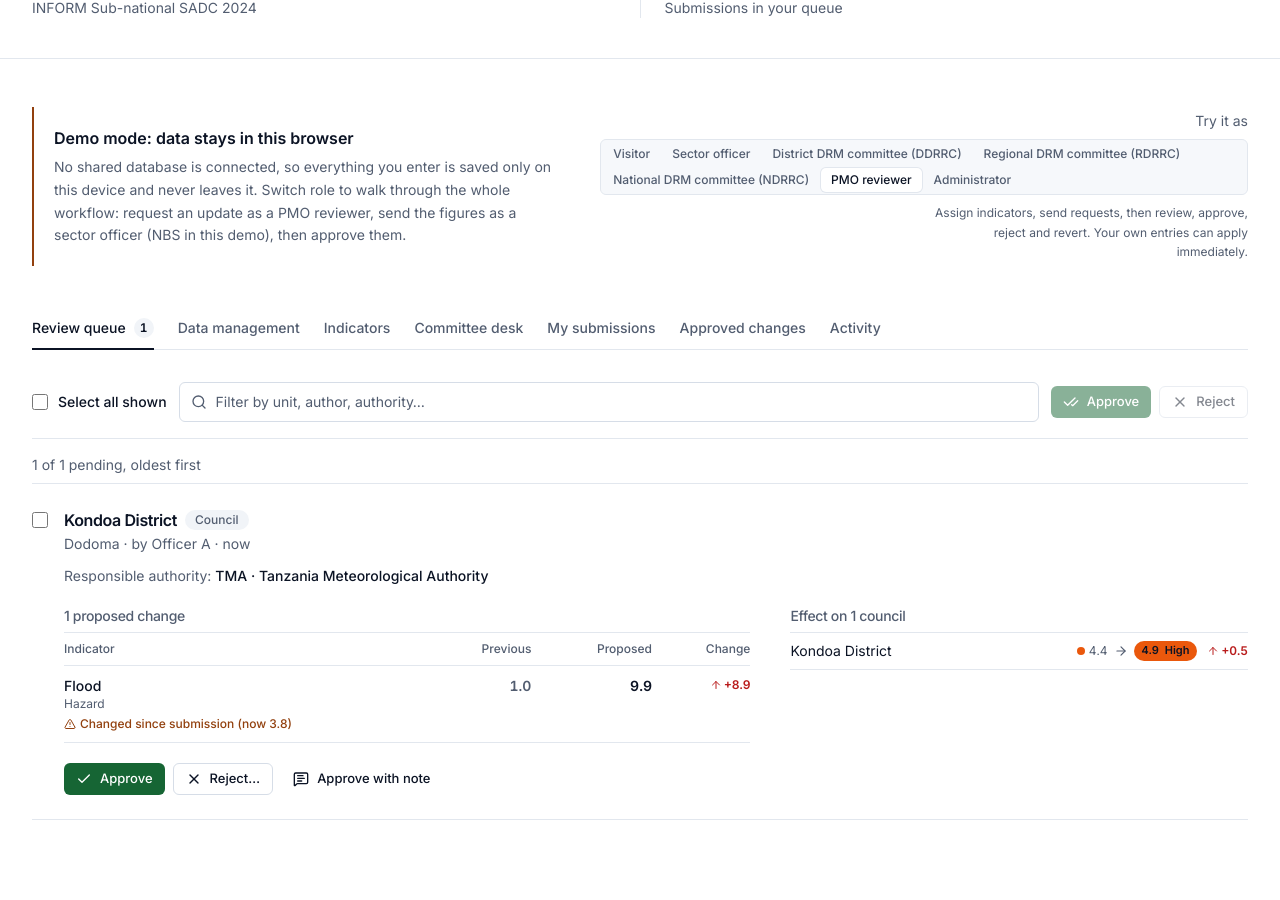
DataPortalPage (local demo mode) › shows pending submissions to a PMO reviewer who can approve them
This screenshot has width=1280, height=900.
(page scrolled)
Expected: the text "Dodoma · by Officer A · now" is shown, [64,535,250,552]
Click the button "Approve" below "Changed since submission (now 3.8)". click: click(114, 779)
box: [64,763,164,795]
(page scrolled)
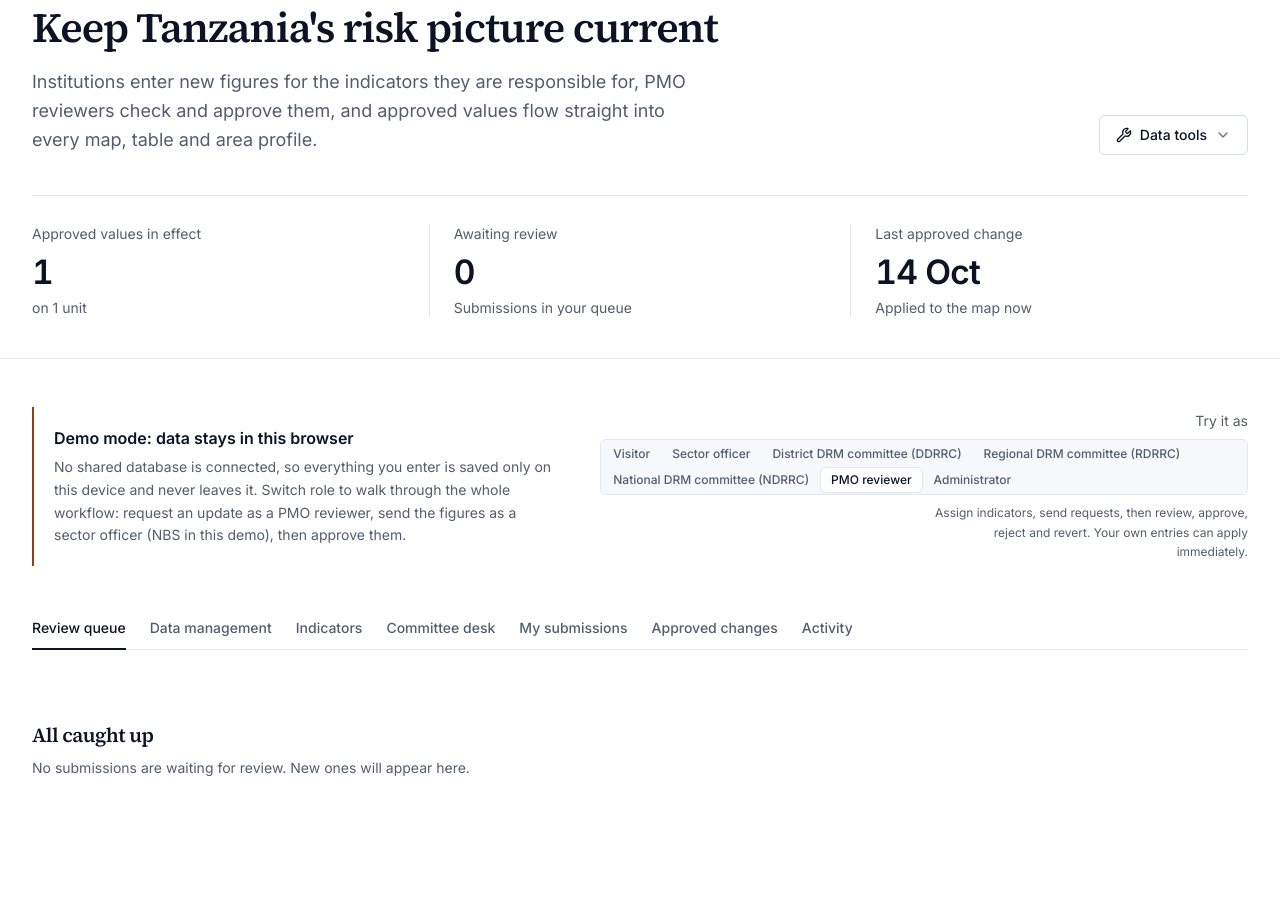
Expected: the heading "All caught up" is shown, [32,721,153,749]
